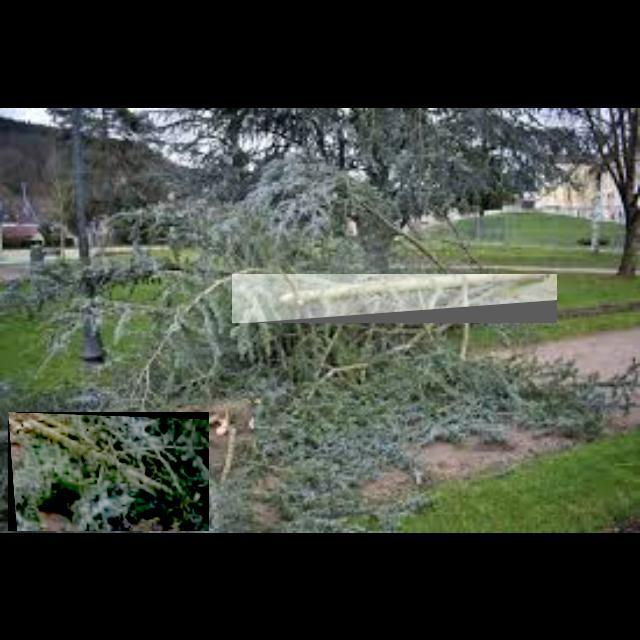fallen_tree: (8, 412, 210, 532), (232, 274, 558, 324)
